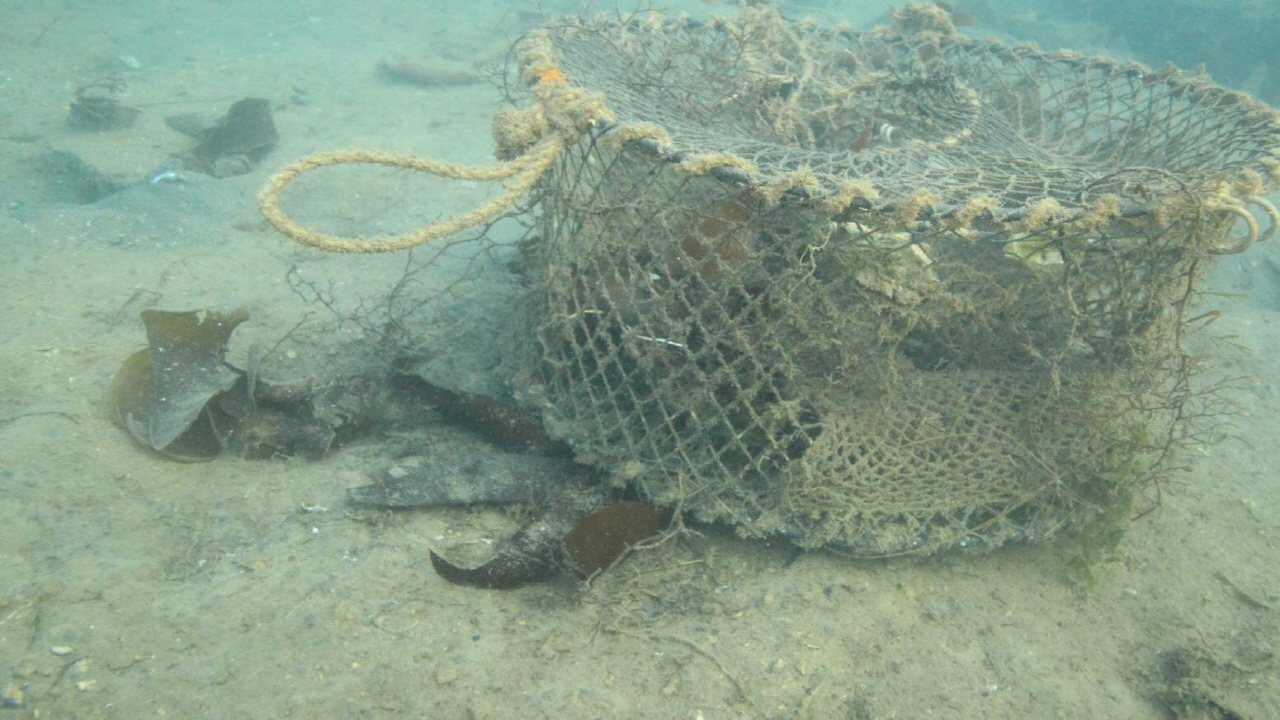bundle of ropes: (255, 96, 594, 251)
circular fish trap: (513, 11, 1280, 556)
